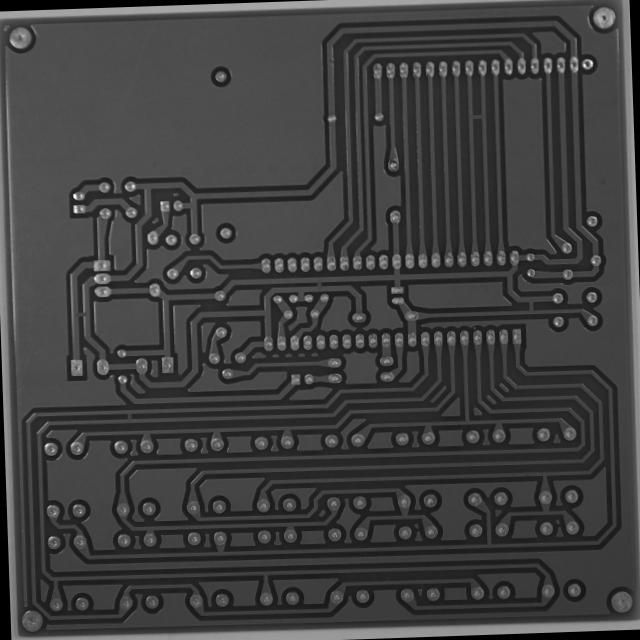short: (68, 304, 93, 322), (464, 108, 488, 125), (522, 292, 538, 316), (121, 407, 135, 425), (310, 275, 324, 290)
